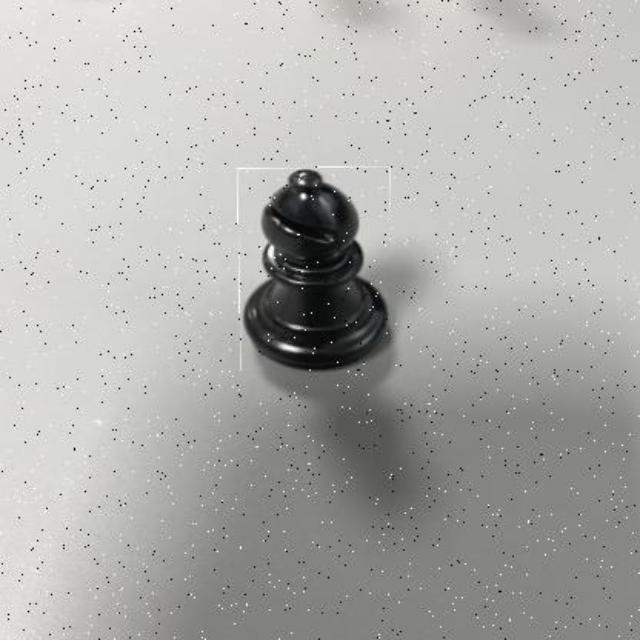black-bishop: (238, 167, 391, 373)
